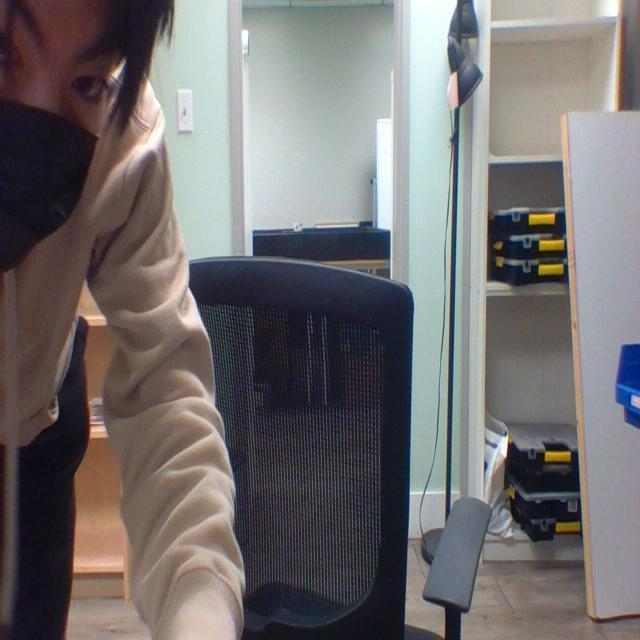chair: (182, 256, 410, 640)
